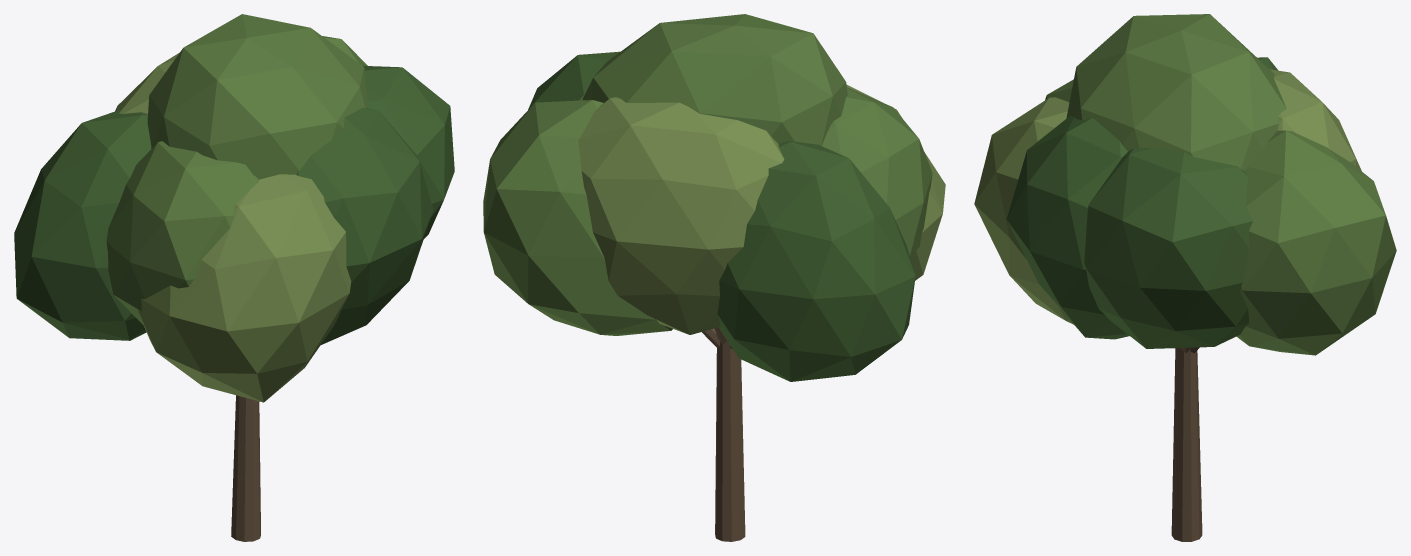
Rendered from broad-irregular-lod0.glb.
The picture shows the model from 3 angles, left to right: view 1: azimuth 30°, elevation 25°; view 2: azimuth 150°, elevation 25°; view 3: azimuth 270°, elevation 25°; orthographic projection.
Parts seen in each view (by area): view 1: broad-irregular_LOD0; view 2: broad-irregular_LOD0; view 3: broad-irregular_LOD0.
Part boxes in pixels (bbox=[...]): broad-irregular_LOD0: bbox=[14, 14, 454, 541]; broad-irregular_LOD0: bbox=[483, 14, 945, 541]; broad-irregular_LOD0: bbox=[974, 14, 1396, 541].
Bounding box in the file's own units: 6.88 × 8.3 × 6.3.
